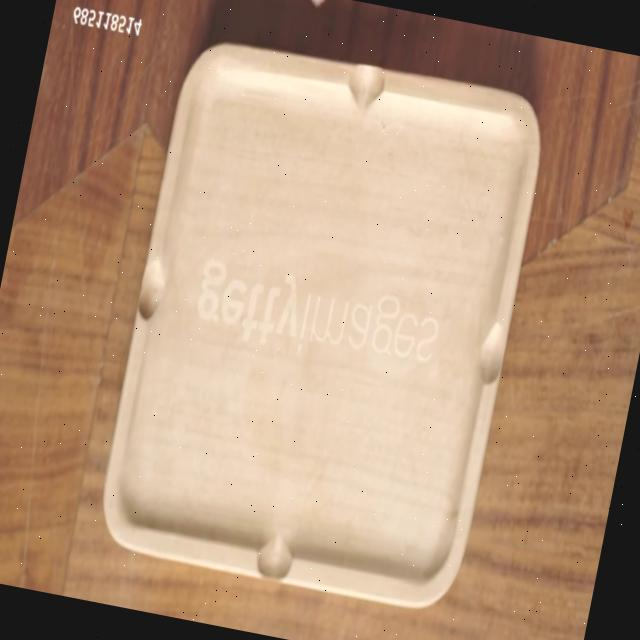tray: (91, 30, 554, 616)
